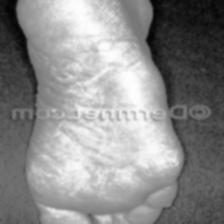Toxin: (75, 129, 107, 183), (43, 69, 78, 104), (144, 149, 182, 179), (115, 0, 131, 49), (25, 166, 47, 195)
